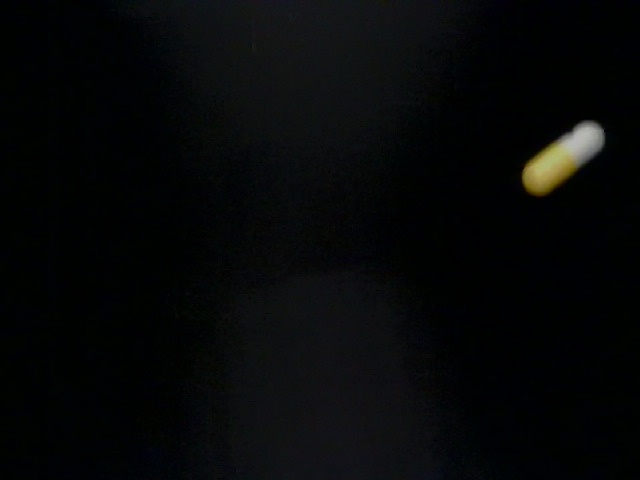YHLJ: (219, 368, 310, 431)
